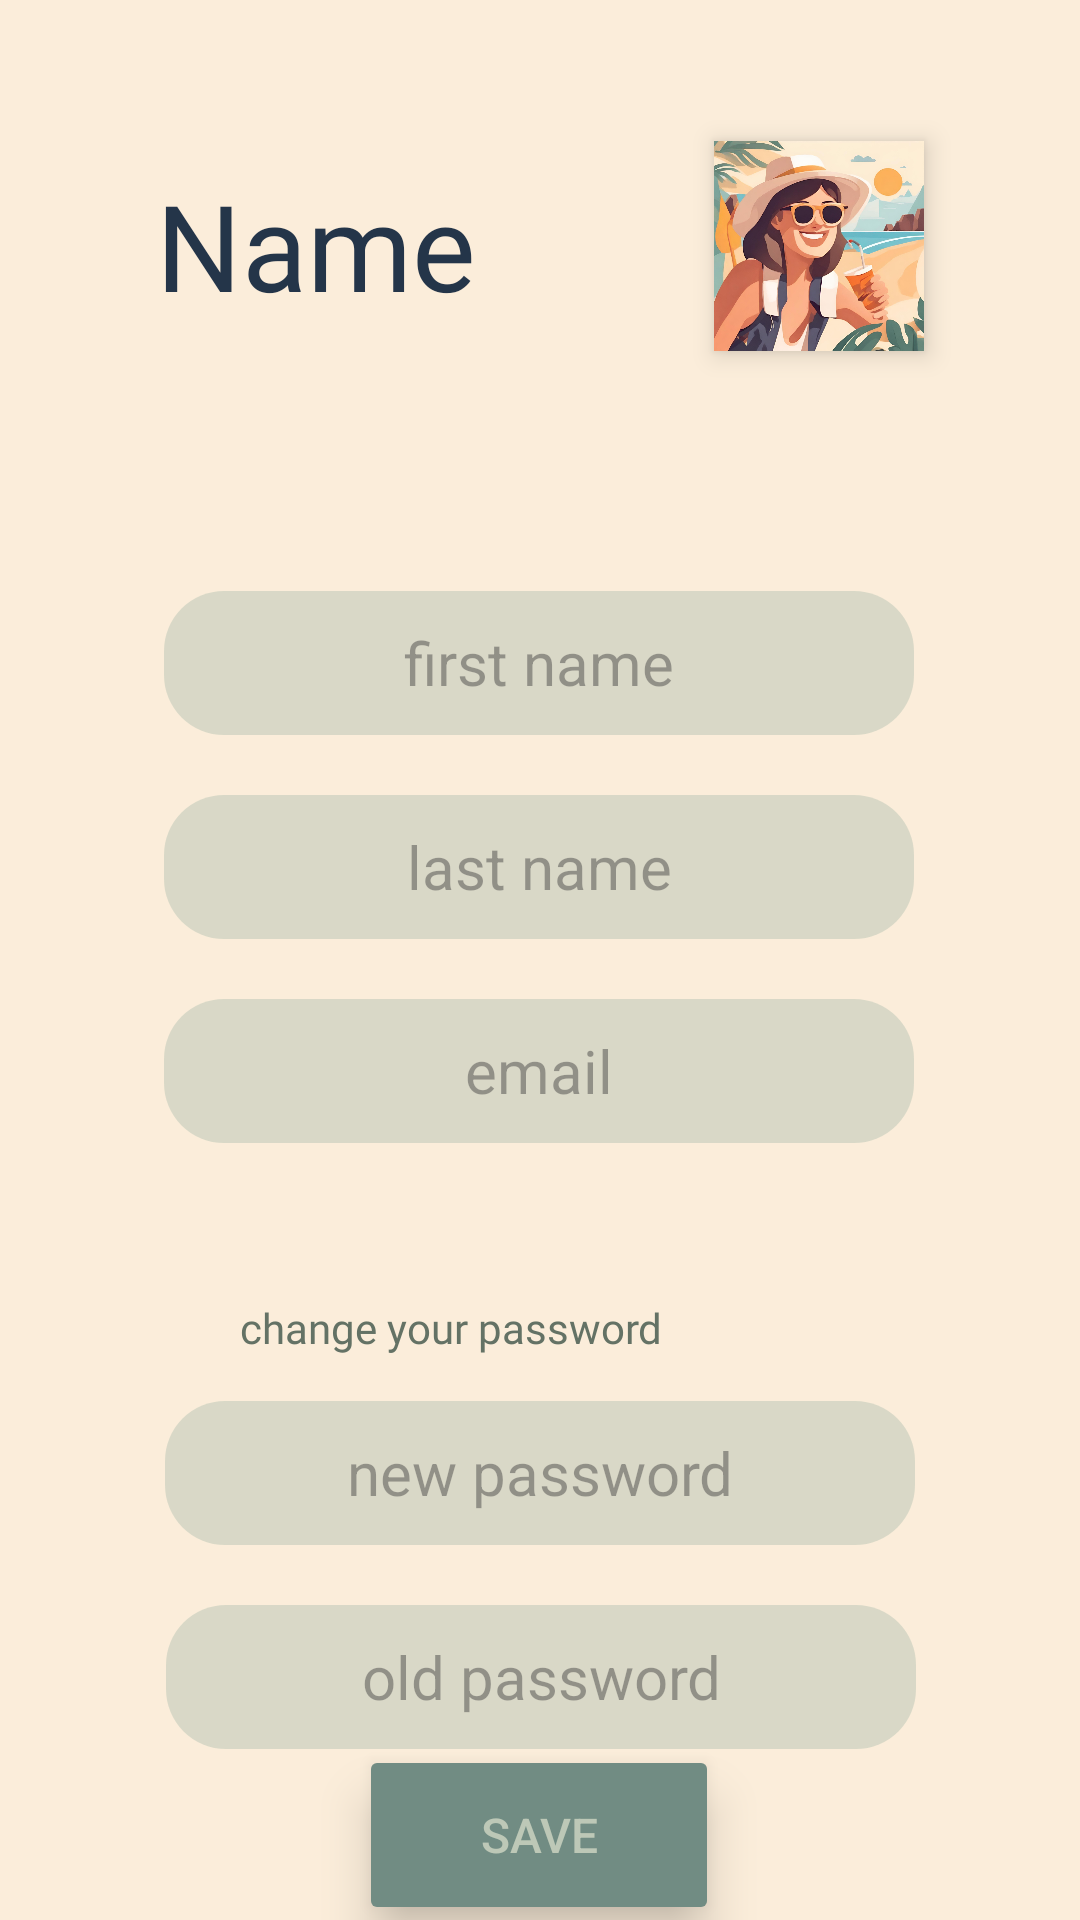

Screen size 1080×1920. Icon name, then its center in pixels as (x=x, y=y):
profile: (x=819, y=246)
